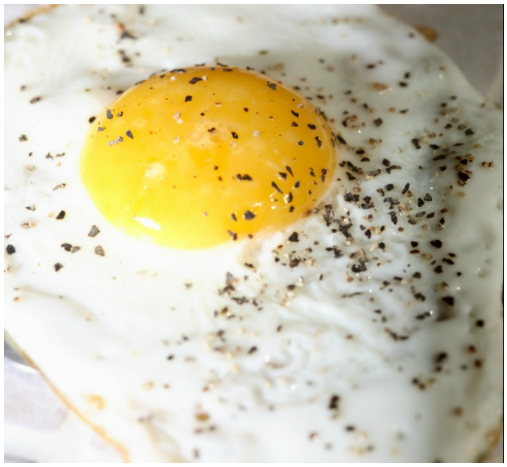fried egg: (9, 17, 473, 423)
